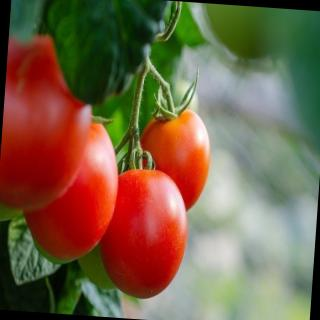Tomat: (95, 57, 217, 304), (95, 163, 193, 302)
